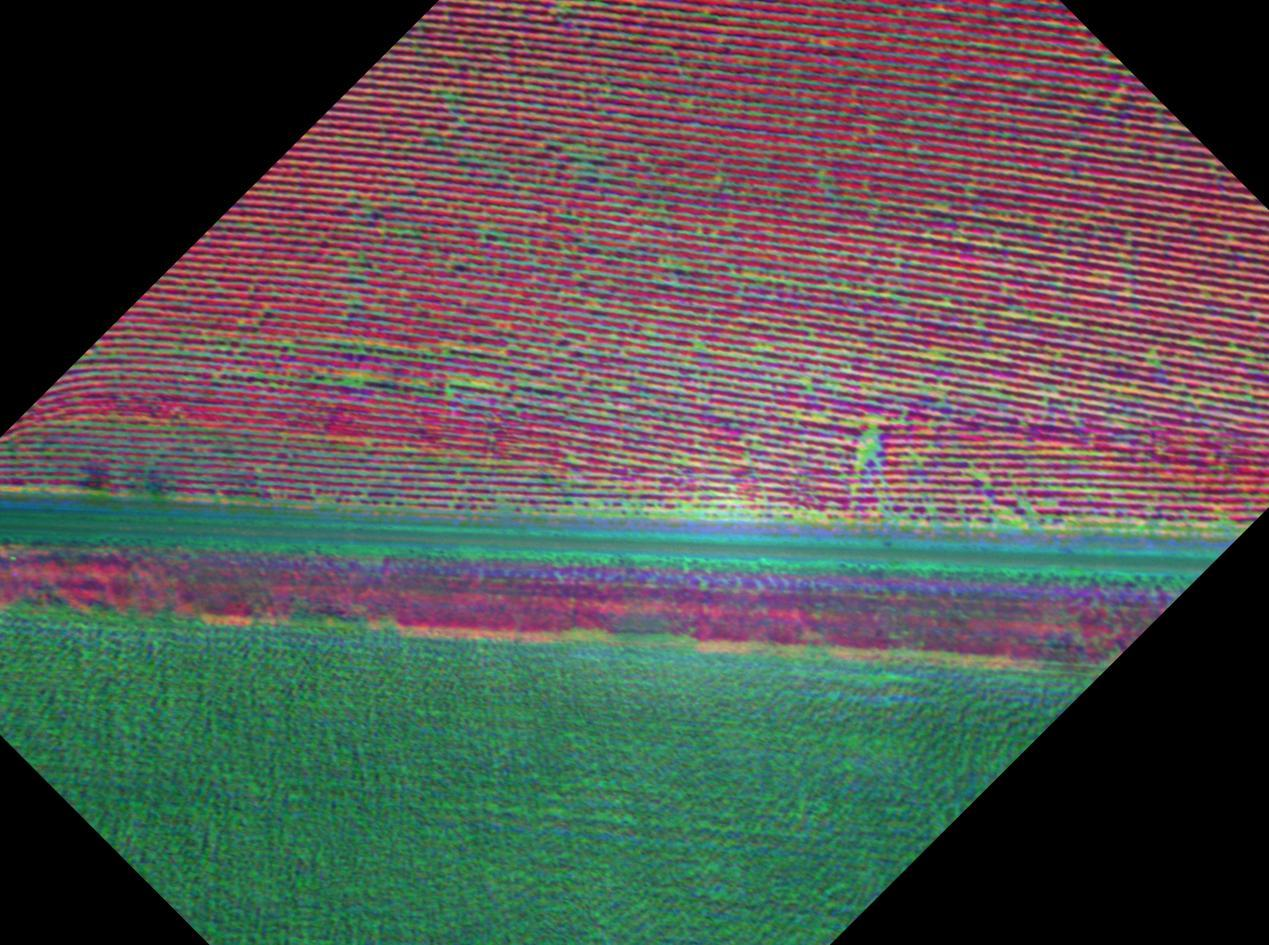dc: (859, 453, 866, 460), (868, 432, 874, 439), (697, 343, 702, 348), (346, 380, 351, 384), (685, 104, 689, 108), (582, 162, 586, 166), (926, 234, 930, 238), (569, 459, 573, 463), (405, 448, 410, 451), (869, 126, 872, 130), (483, 223, 486, 226)
